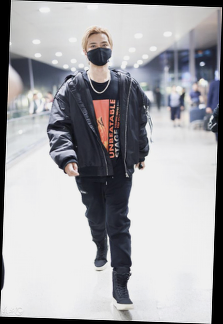with_mask: (86, 39, 112, 67)
